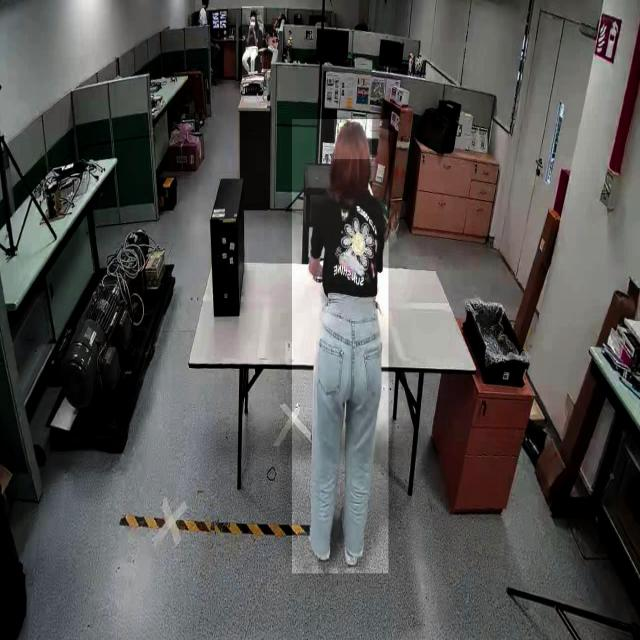face_mask: (249, 17, 255, 27)
head_nohelmet: (334, 119, 372, 160), (250, 10, 258, 16)
person: (292, 119, 388, 574), (242, 6, 264, 81)
